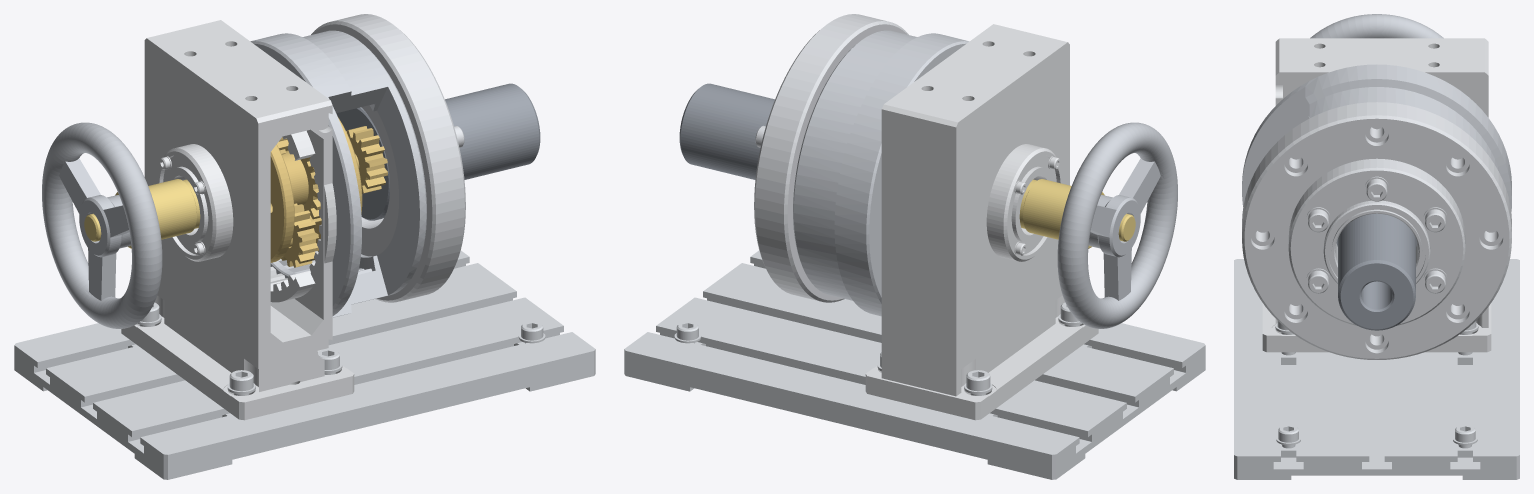
Rendered from cad_v2_09_agy.glb.
3 renders of one model, left to right at view 1: azimuth 30°, elevation 25°; view 2: azimuth 150°, elevation 25°; view 3: azimuth 270°, elevation 25°, orthographic. The views are drawn at different scales.
Visible parts, largest first — view 1: front_pedestal, t_slot_baseplate, rear_ring_barrel, input_handwheel, output_bearing_cap, hollow_output_shaft, planet_carrier_module, brass_input_sun_shaft; view 2: front_pedestal, t_slot_baseplate, rear_ring_barrel, input_handwheel, output_bearing_cap, hollow_output_shaft, brass_input_sun_shaft; view 3: output_bearing_cap, t_slot_baseplate, front_pedestal, rear_ring_barrel, hollow_output_shaft, input_handwheel.
Part boxes in pixels (bbox=[...]): front_pedestal: bbox=[121, 20, 354, 420]; t_slot_baseplate: bbox=[14, 250, 595, 479]; rear_ring_barrel: bbox=[250, 30, 426, 317]; input_handwheel: bbox=[42, 122, 162, 328]; output_bearing_cap: bbox=[311, 14, 465, 302]; hollow_output_shaft: bbox=[336, 83, 540, 220]; planet_carrier_module: bbox=[270, 117, 387, 267]; brass_input_sun_shaft: bbox=[84, 179, 200, 248]; front_pedestal: bbox=[865, 24, 1098, 420]; t_slot_baseplate: bbox=[624, 250, 1205, 479]; rear_ring_barrel: bbox=[793, 30, 969, 316]; input_handwheel: bbox=[1057, 122, 1177, 328]; output_bearing_cap: bbox=[754, 14, 908, 302]; hollow_output_shaft: bbox=[679, 83, 774, 179]; brass_input_sun_shaft: bbox=[1019, 179, 1135, 248]; output_bearing_cap: bbox=[1242, 102, 1511, 359]; t_slot_baseplate: bbox=[1234, 259, 1519, 479]; front_pedestal: bbox=[1262, 38, 1491, 352]; rear_ring_barrel: bbox=[1242, 64, 1511, 211]; hollow_output_shaft: bbox=[1336, 213, 1417, 330]; input_handwheel: bbox=[1310, 14, 1443, 38].
Size of the model in its own units: 0.18 by 0.13 by 0.11.
